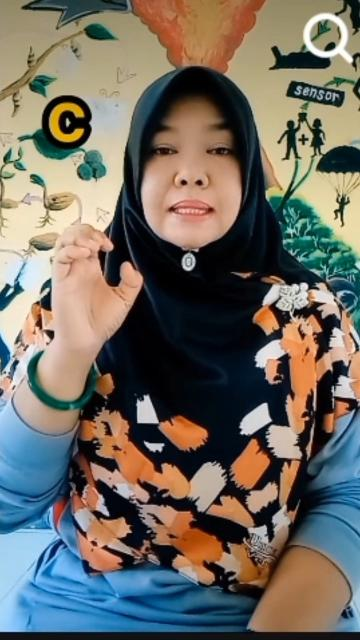C: (50, 220, 144, 364)
